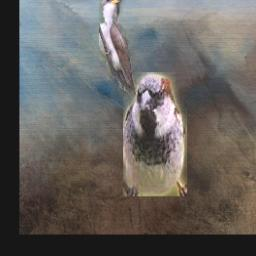Cuckoo: (98, 0, 142, 108)
Sparrow: (123, 73, 187, 197)
